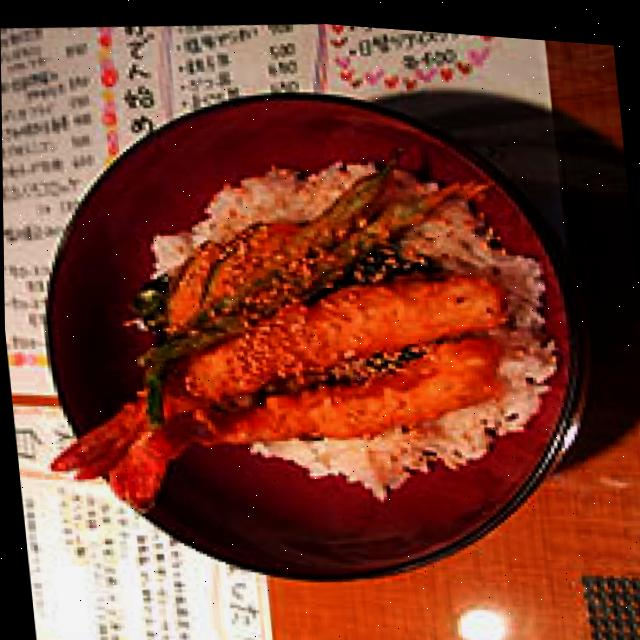熟制海鲜: (19, 47, 616, 623)
